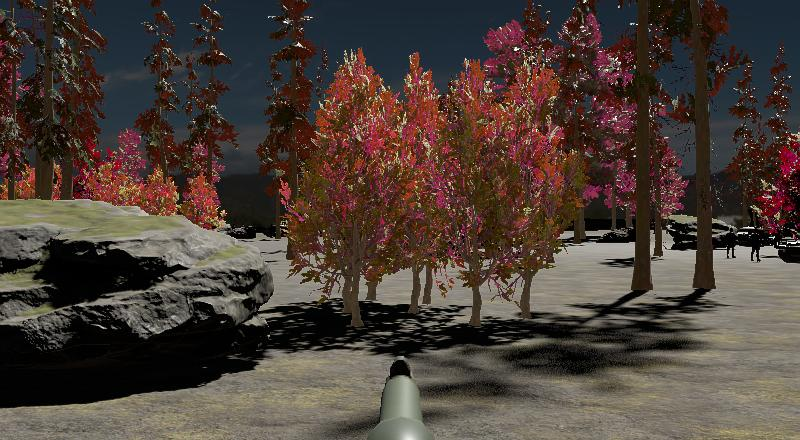Tank: (775, 228, 800, 265)
